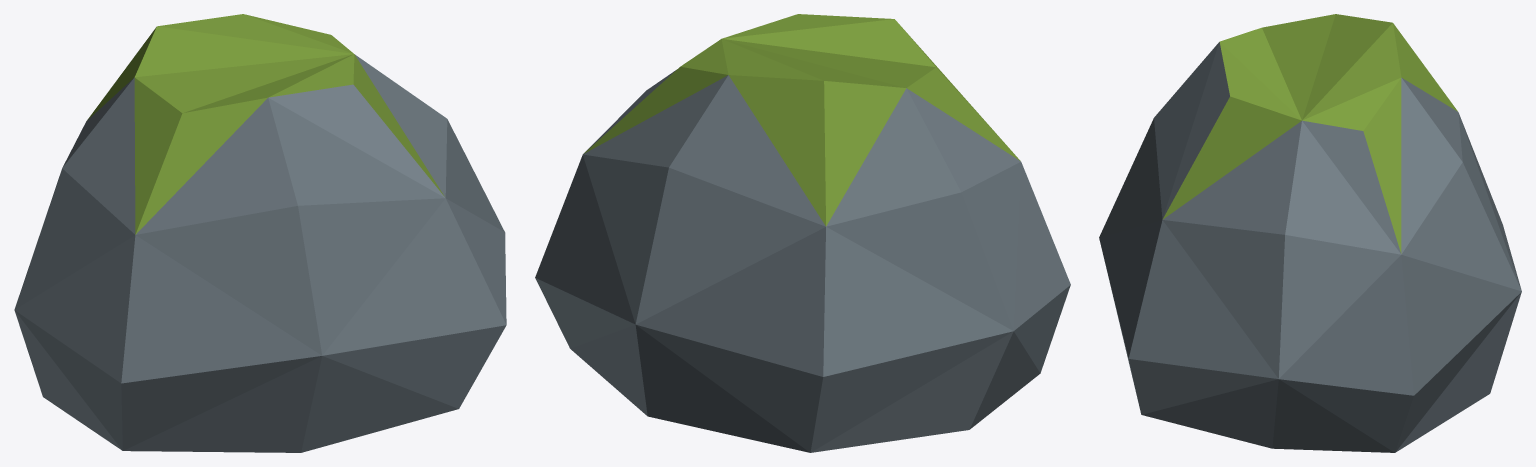
The model's file is rock_large.glb.
3 renders of one model, left to right at view 1: azimuth 30°, elevation 25°; view 2: azimuth 150°, elevation 25°; view 3: azimuth 270°, elevation 25°, orthographic. The views are drawn at different scales.
Visible parts, largest first — view 1: Angular boulder with integrated moss facets; view 2: Angular boulder with integrated moss facets; view 3: Angular boulder with integrated moss facets.
Boxes of the visible parts, x1=… form: Angular boulder with integrated moss facets: x1=14, y1=14, x2=506, y2=452; Angular boulder with integrated moss facets: x1=535, y1=14, x2=1070, y2=452; Angular boulder with integrated moss facets: x1=1099, y1=14, x2=1521, y2=452.
Bounding box in the file's own units: 1.16 × 0.8 × 0.98.
